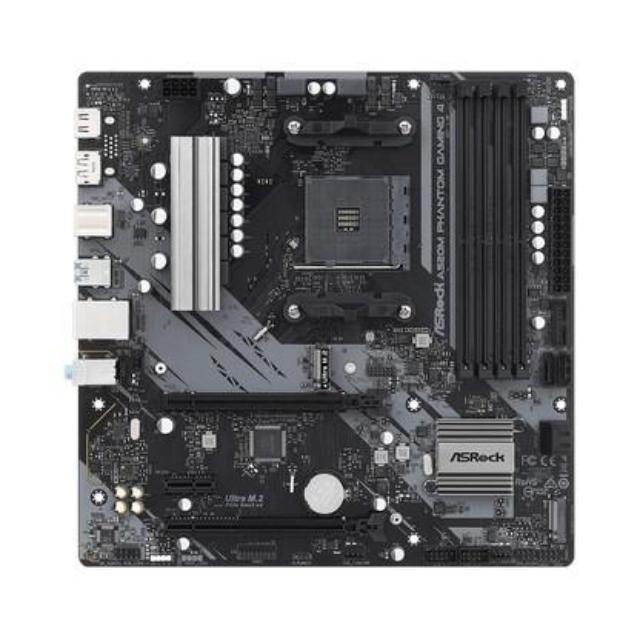Mainboard: (71, 63, 574, 569)
